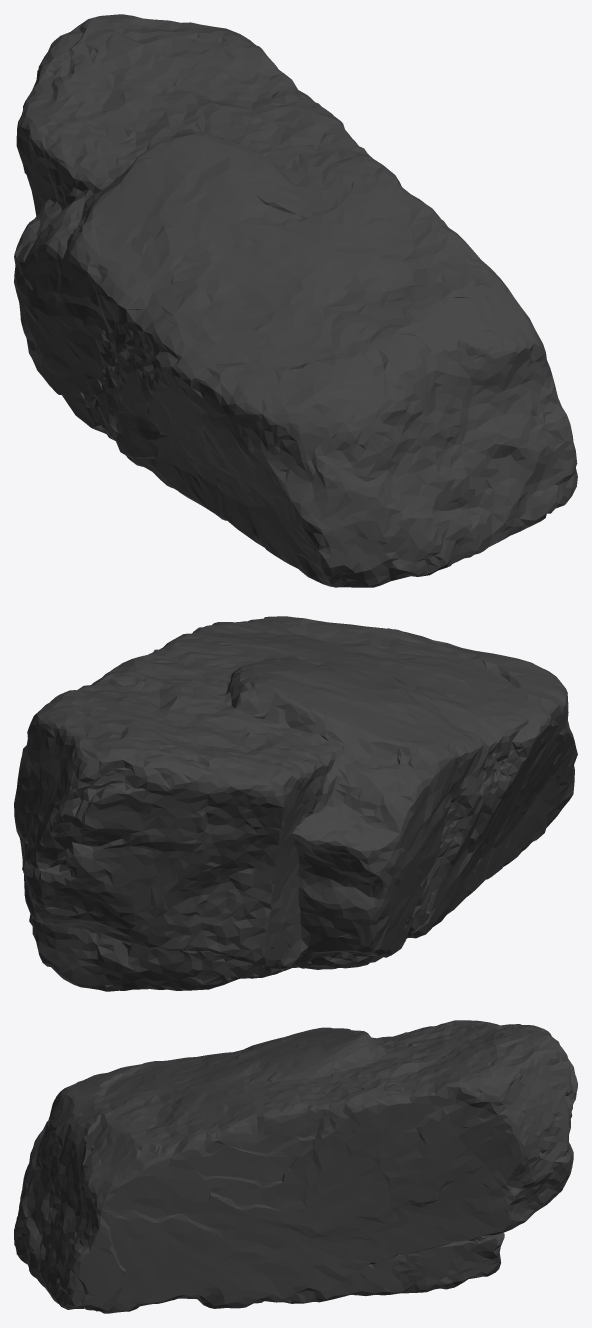
3 renders of one model, top to bottom at view 1: azimuth 30°, elevation 25°; view 2: azimuth 150°, elevation 25°; view 3: azimuth 270°, elevation 25°, orthographic. The views are drawn at different scales.
Visible parts, largest first — view 1: rock_07_h1_v8ax_h550_2s.obj; view 2: rock_07_h1_v8ax_h550_2s.obj; view 3: rock_07_h1_v8ax_h550_2s.obj.
Boxes of the visible parts, bbox=[...] form: rock_07_h1_v8ax_h550_2s.obj: bbox=[14, 14, 577, 587]; rock_07_h1_v8ax_h550_2s.obj: bbox=[14, 616, 577, 991]; rock_07_h1_v8ax_h550_2s.obj: bbox=[14, 1020, 577, 1313].
Bounding box in the file's own units: 0.6705 × 0.55 × 1.24.
Materials: 1 (1 with a texture image).
